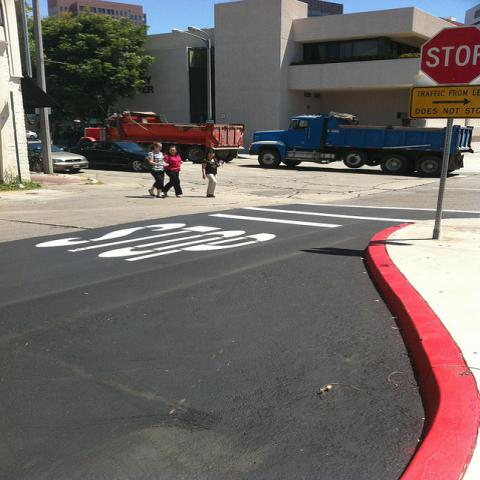car: (66, 138, 149, 172), (27, 138, 88, 172), (26, 130, 38, 139)
truck: (248, 110, 474, 178), (85, 109, 250, 163)
